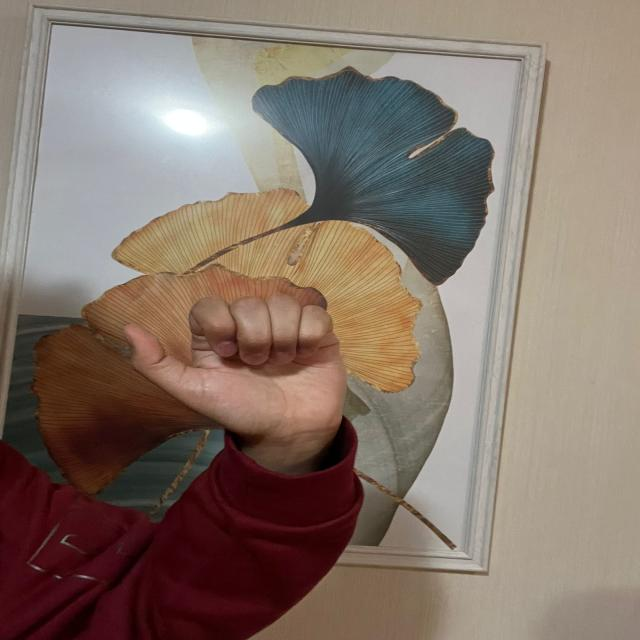E: (116, 289, 356, 436)
